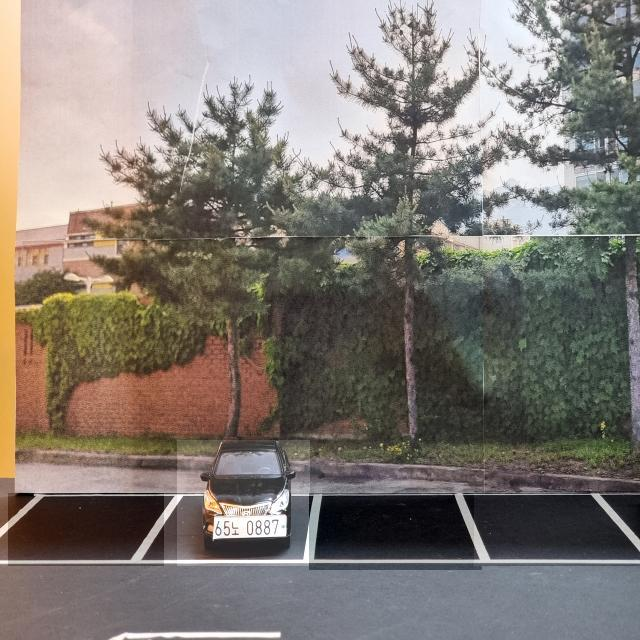empty: (309, 493, 482, 570), (474, 491, 640, 566), (8, 493, 164, 566)
occupied: (177, 441, 310, 566)
